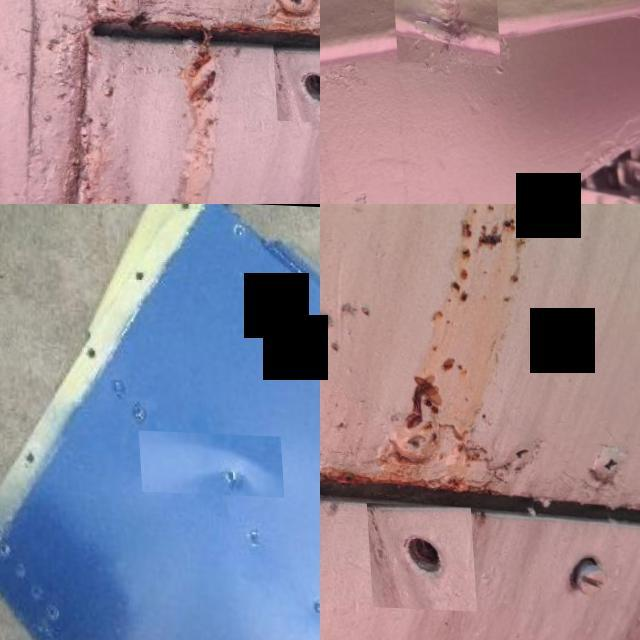Dent: (138, 429, 280, 494), (388, 0, 496, 62), (104, 554, 139, 640)
Missing_Fastener: (362, 501, 471, 609), (268, 40, 320, 120)
